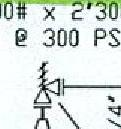psv: (32, 59, 64, 109)
